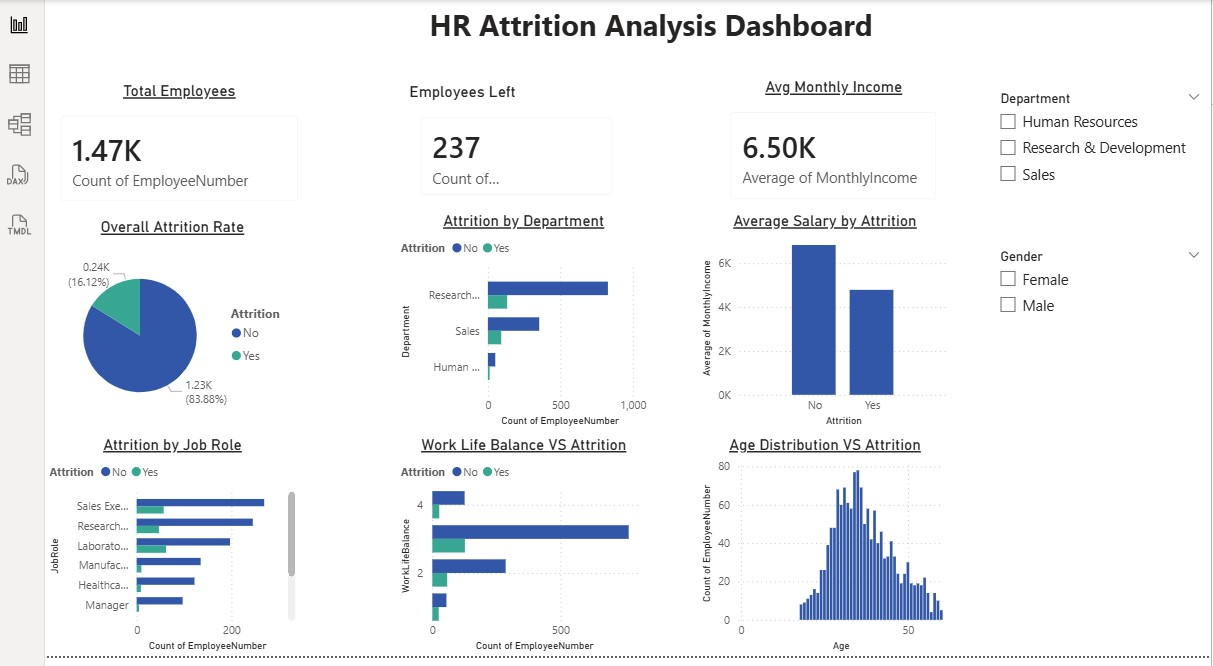

This screenshot's page, from the dashboard's own definition file:
{"tool":"powerbi","page":{"name":"Page 1","canvas":[1280,720],"ordinal":0},"visuals":[{"type":"pieChart","title":"Overall Attrition Rate","fields":{"Category":["WA_Fn-UseC_-HR-Employee-Attrition.Attrition"],"Y":["CountNonNull(WA_Fn-UseC_-HR-Employee-Attrition.EmployeeNumber)"]},"box":[0,238.8,279.9,238.8],"z":0},{"type":"clusteredBarChart","title":"Attrition by Department","fields":{"Category":["WA_Fn-UseC_-HR-Employee-Attrition.Department"],"Y":["CountNonNull(WA_Fn-UseC_-HR-Employee-Attrition.EmployeeNumber)"],"Series":["WA_Fn-UseC_-HR-Employee-Attrition.Attrition"]},"box":[385.6,231.9,279.9,241.5],"z":1000},{"type":"clusteredColumnChart","title":"Average Salary by Attrition","fields":{"Category":["WA_Fn-UseC_-HR-Employee-Attrition.Attrition"],"Y":["Avg(WA_Fn-UseC_-HR-Employee-Attrition.MonthlyIncome)"]},"box":[716.3,231.9,279.9,241.5],"z":2000},{"type":"clusteredBarChart","title":"Attrition by Job Role","fields":{"Category":["WA_Fn-UseC_-HR-Employee-Attrition.JobRole"],"Y":["CountNonNull(WA_Fn-UseC_-HR-Employee-Attrition.EmployeeNumber)"],"Series":["WA_Fn-UseC_-HR-Employee-Attrition.Attrition"]},"box":[0,477.5,279.9,242.9],"z":3000},{"type":"clusteredColumnChart","title":"Age Distribution VS Attrition","fields":{"Category":["WA_Fn-UseC_-HR-Employee-Attrition.Age"],"Y":["CountNonNull(WA_Fn-UseC_-HR-Employee-Attrition.EmployeeNumber)"]},"box":[716.3,477.5,279.9,242.9],"z":4000},{"type":"clusteredBarChart","title":"Work Life Balance VS Attrition","fields":{"Category":["WA_Fn-UseC_-HR-Employee-Attrition.WorkLifeBalance"],"Y":["CountNonNull(WA_Fn-UseC_-HR-Employee-Attrition.EmployeeNumber)"],"Series":["WA_Fn-UseC_-HR-Employee-Attrition.Attrition"]},"box":[385.6,477.5,279.9,242.9],"z":5000},{"type":"cardVisual","title":"Total Employees","fields":{"Data":["CountNonNull(WA_Fn-UseC_-HR-Employee-Attrition.EmployeeNumber)"]},"box":[0,89.2,295,149.6],"z":6000},{"type":"cardVisual","title":"Avg Monthly Income","fields":{"Data":["Avg(WA_Fn-UseC_-HR-Employee-Attrition.MonthlyIncome)"]},"box":[735.5,85.1,260.7,150.9],"z":7000},{"type":"slicer","fields":{"Values":["WA_Fn-UseC_-HR-Employee-Attrition.Department"]},"box":[1036,94.7,244.3,130.4],"z":8000},{"type":"slicer","fields":{"Values":["WA_Fn-UseC_-HR-Employee-Attrition.Gender"]},"box":[1036,267.6,244.3,104.3],"z":9000},{"type":"textbox","box":[295,0,741,89.2],"z":10000},{"type":"cardVisual","title":"Employees Left","fields":{"Data":["CountNonNull(WA_Fn-UseC_-HR-Employee-Attrition.EmployeeNumber)"]},"box":[395.2,90.6,244.3,141.3],"z":11000}]}

Visuals, with their boxes on the page's 1280x720 design canvas (x1, y1, x2, y2). These are canvas units, not pixel positions in the 1213x666 screenshot, which may show the page scaled, cropped or inside an application window:
"Overall Attrition Rate" pieChart: {"left": 0, "top": 239, "right": 280, "bottom": 478}
"Attrition by Department" clusteredBarChart: {"left": 386, "top": 232, "right": 666, "bottom": 473}
"Average Salary by Attrition" clusteredColumnChart: {"left": 716, "top": 232, "right": 996, "bottom": 473}
"Attrition by Job Role" clusteredBarChart: {"left": 0, "top": 478, "right": 280, "bottom": 720}
"Age Distribution VS Attrition" clusteredColumnChart: {"left": 716, "top": 478, "right": 996, "bottom": 720}
"Work Life Balance VS Attrition" clusteredBarChart: {"left": 386, "top": 478, "right": 666, "bottom": 720}
"Total Employees" cardVisual: {"left": 0, "top": 89, "right": 295, "bottom": 239}
"Avg Monthly Income" cardVisual: {"left": 736, "top": 85, "right": 996, "bottom": 236}
slicer - WA_Fn-UseC_-HR-Employee-Attrition.Department: {"left": 1036, "top": 95, "right": 1280, "bottom": 225}
slicer - WA_Fn-UseC_-HR-Employee-Attrition.Gender: {"left": 1036, "top": 268, "right": 1280, "bottom": 372}
textbox: {"left": 295, "top": 0, "right": 1036, "bottom": 89}
"Employees Left" cardVisual: {"left": 395, "top": 91, "right": 640, "bottom": 232}
